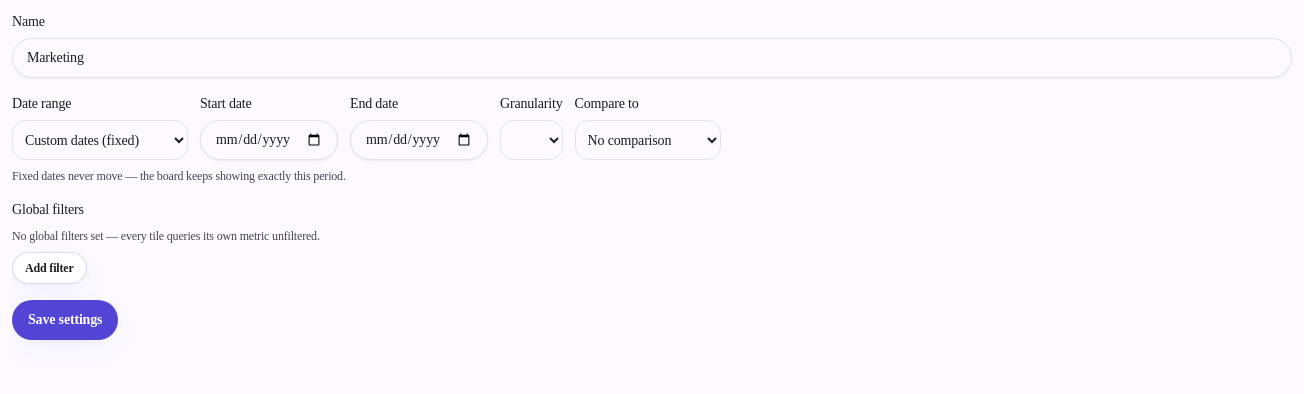
BoardSettingsForm › shows an inline error and does not refresh when the request fails
This screenshot has width=1304, height=394.
Click the button "Save settings". click: [65, 320]
box: [12,300,118,340]
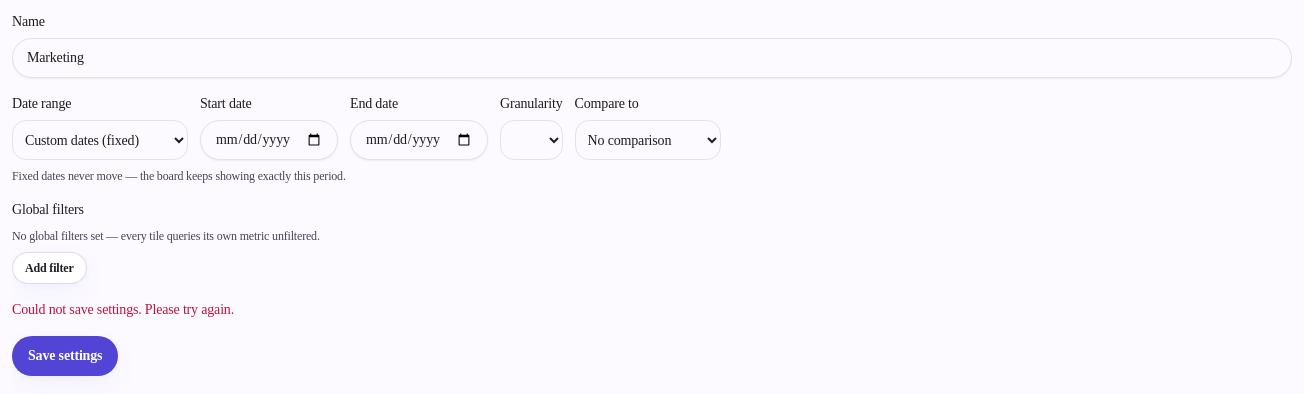
Expected: the message reads "Could not save settings. Please try again.", [12,302,234,317]
